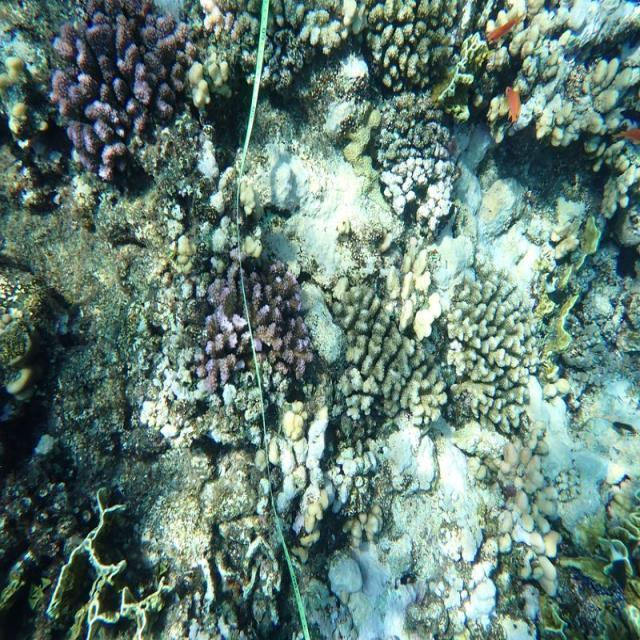Bleached Coral: (324, 534, 428, 640), (127, 341, 216, 433), (372, 151, 468, 215)
Healthy Coral: (47, 0, 200, 158), (436, 275, 544, 444), (197, 259, 323, 389), (330, 271, 407, 421)
